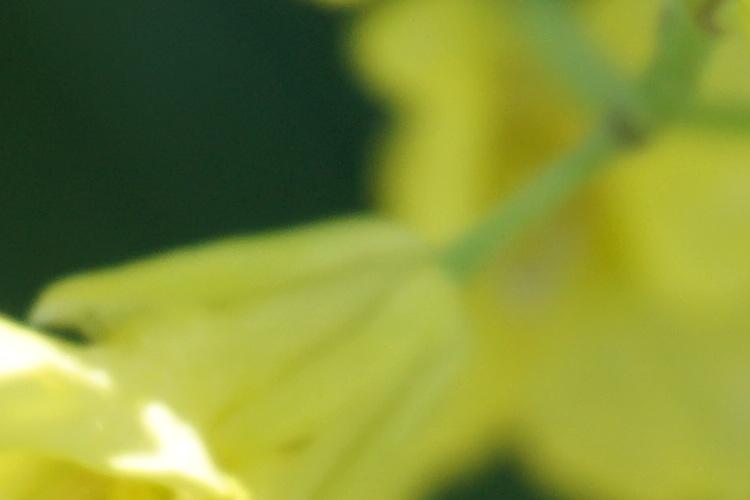yellow: (42, 216, 472, 484)
